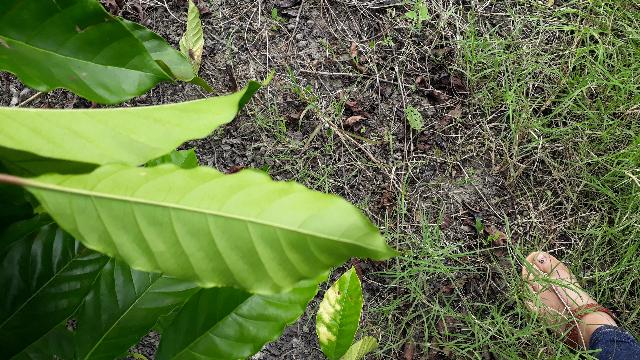healthy: (25, 163, 401, 292)
